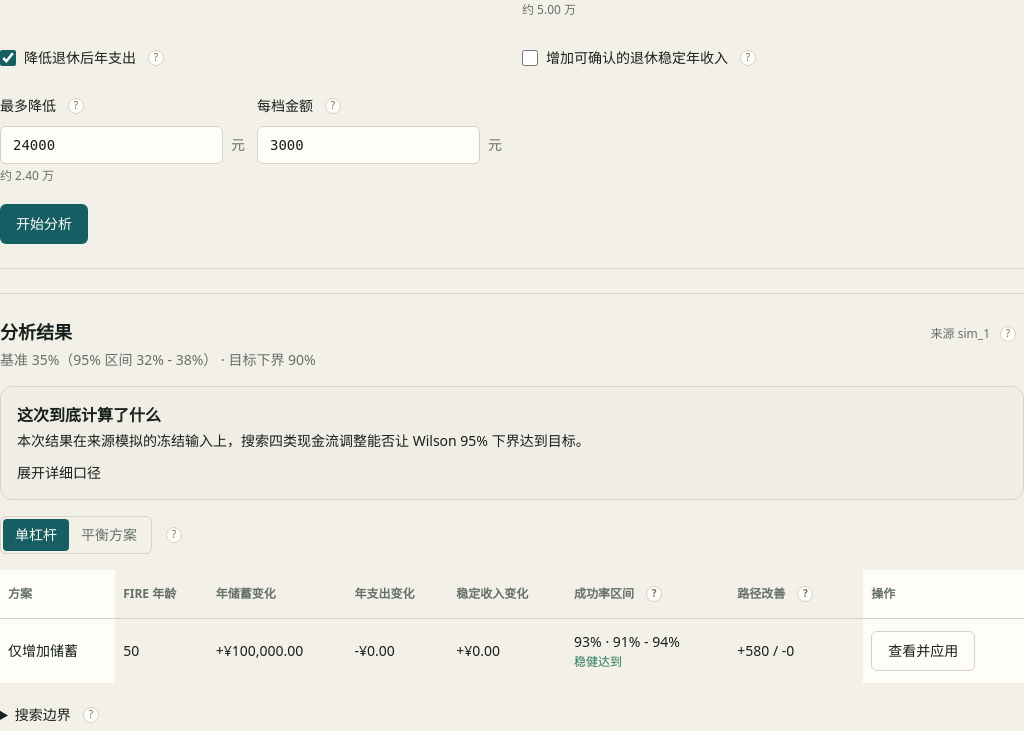
Test case: ImprovementPage › previews and applies only a completed feasible proposal
The image size is (1024, 731).
(page scrolled)
Click the button "查看并应用" at (923, 651), box [871,631,975,671]
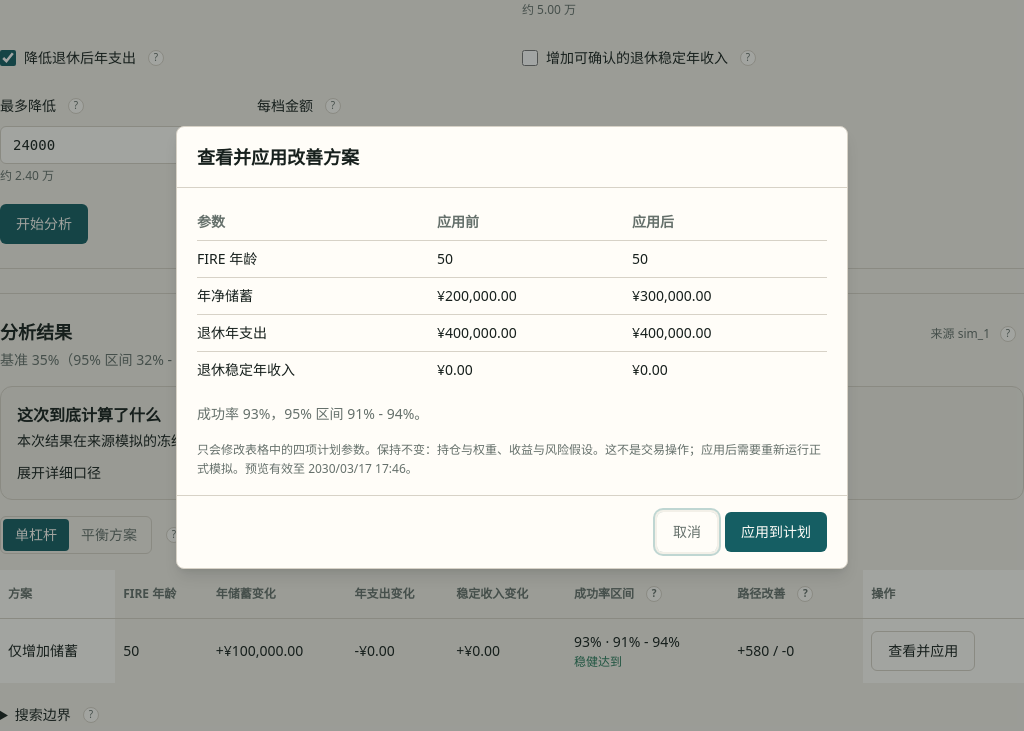
Check: the dialog "查看并应用改善方案" is shown, box [176,126,848,568]
Click the button "应用到计划" at (776, 532), box [725,512,827,552]
(page scrolled)
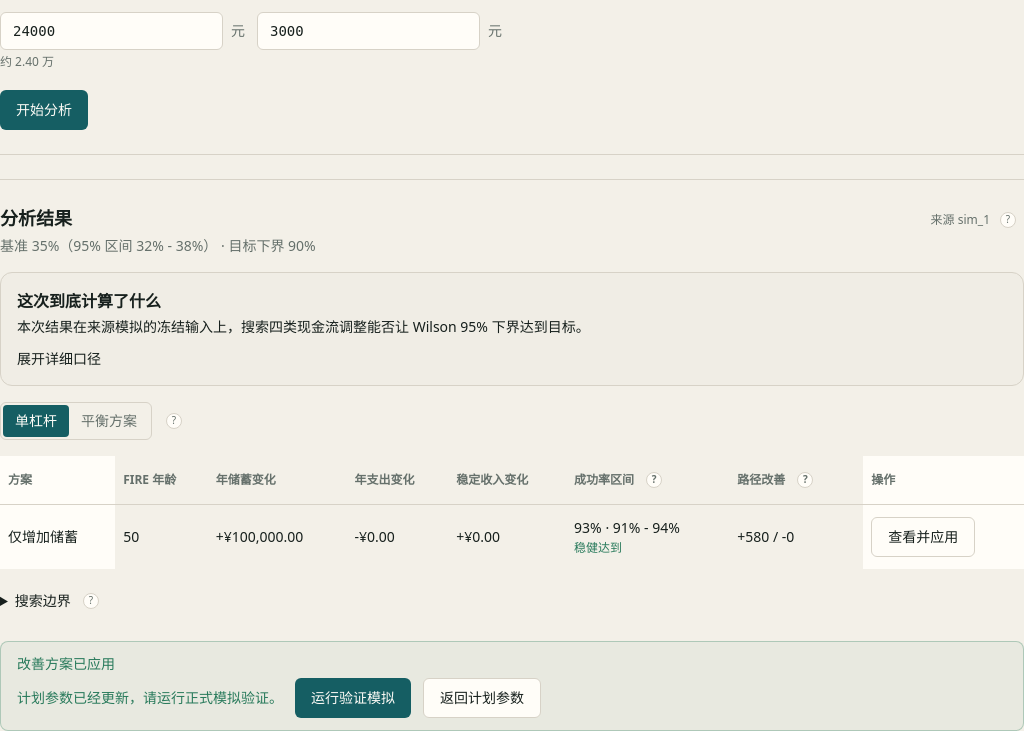
Check: the text "改善方案已应用" is shown, box [17,654,115,673]
Check: the button "运行验证模拟" is shown, box [295,678,411,718]
